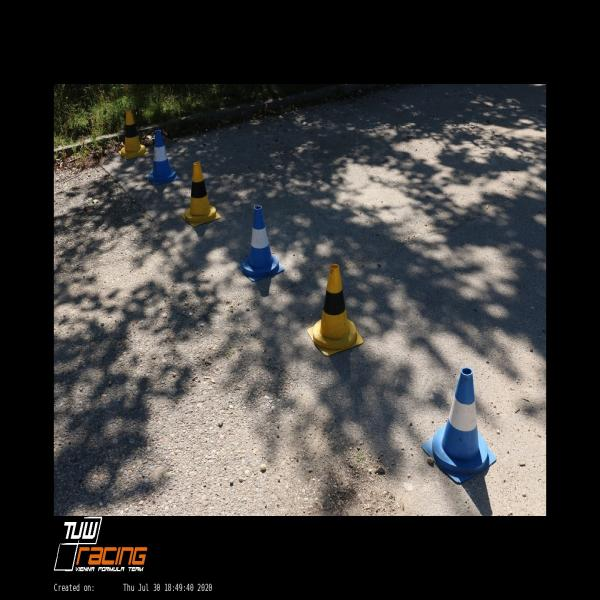blue_cone: (423, 366, 496, 483), (238, 205, 285, 282), (146, 130, 180, 184)
yellow_cone: (309, 264, 363, 356), (182, 162, 221, 226), (118, 110, 149, 158)
